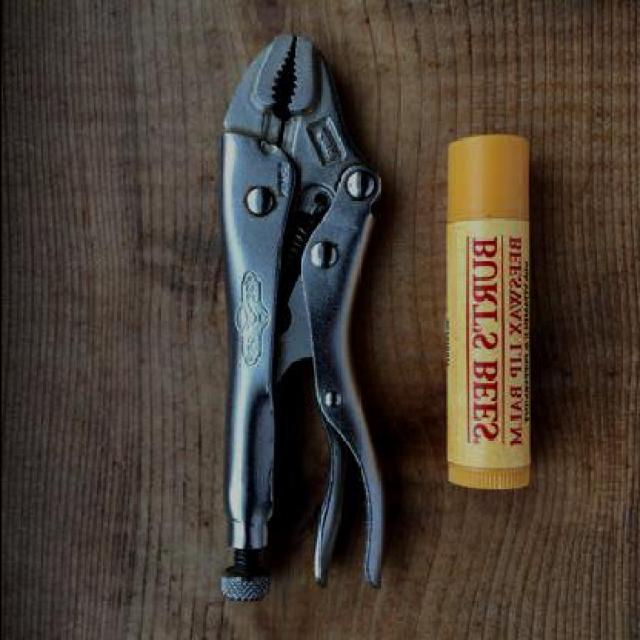pliers: (218, 31, 397, 602)
